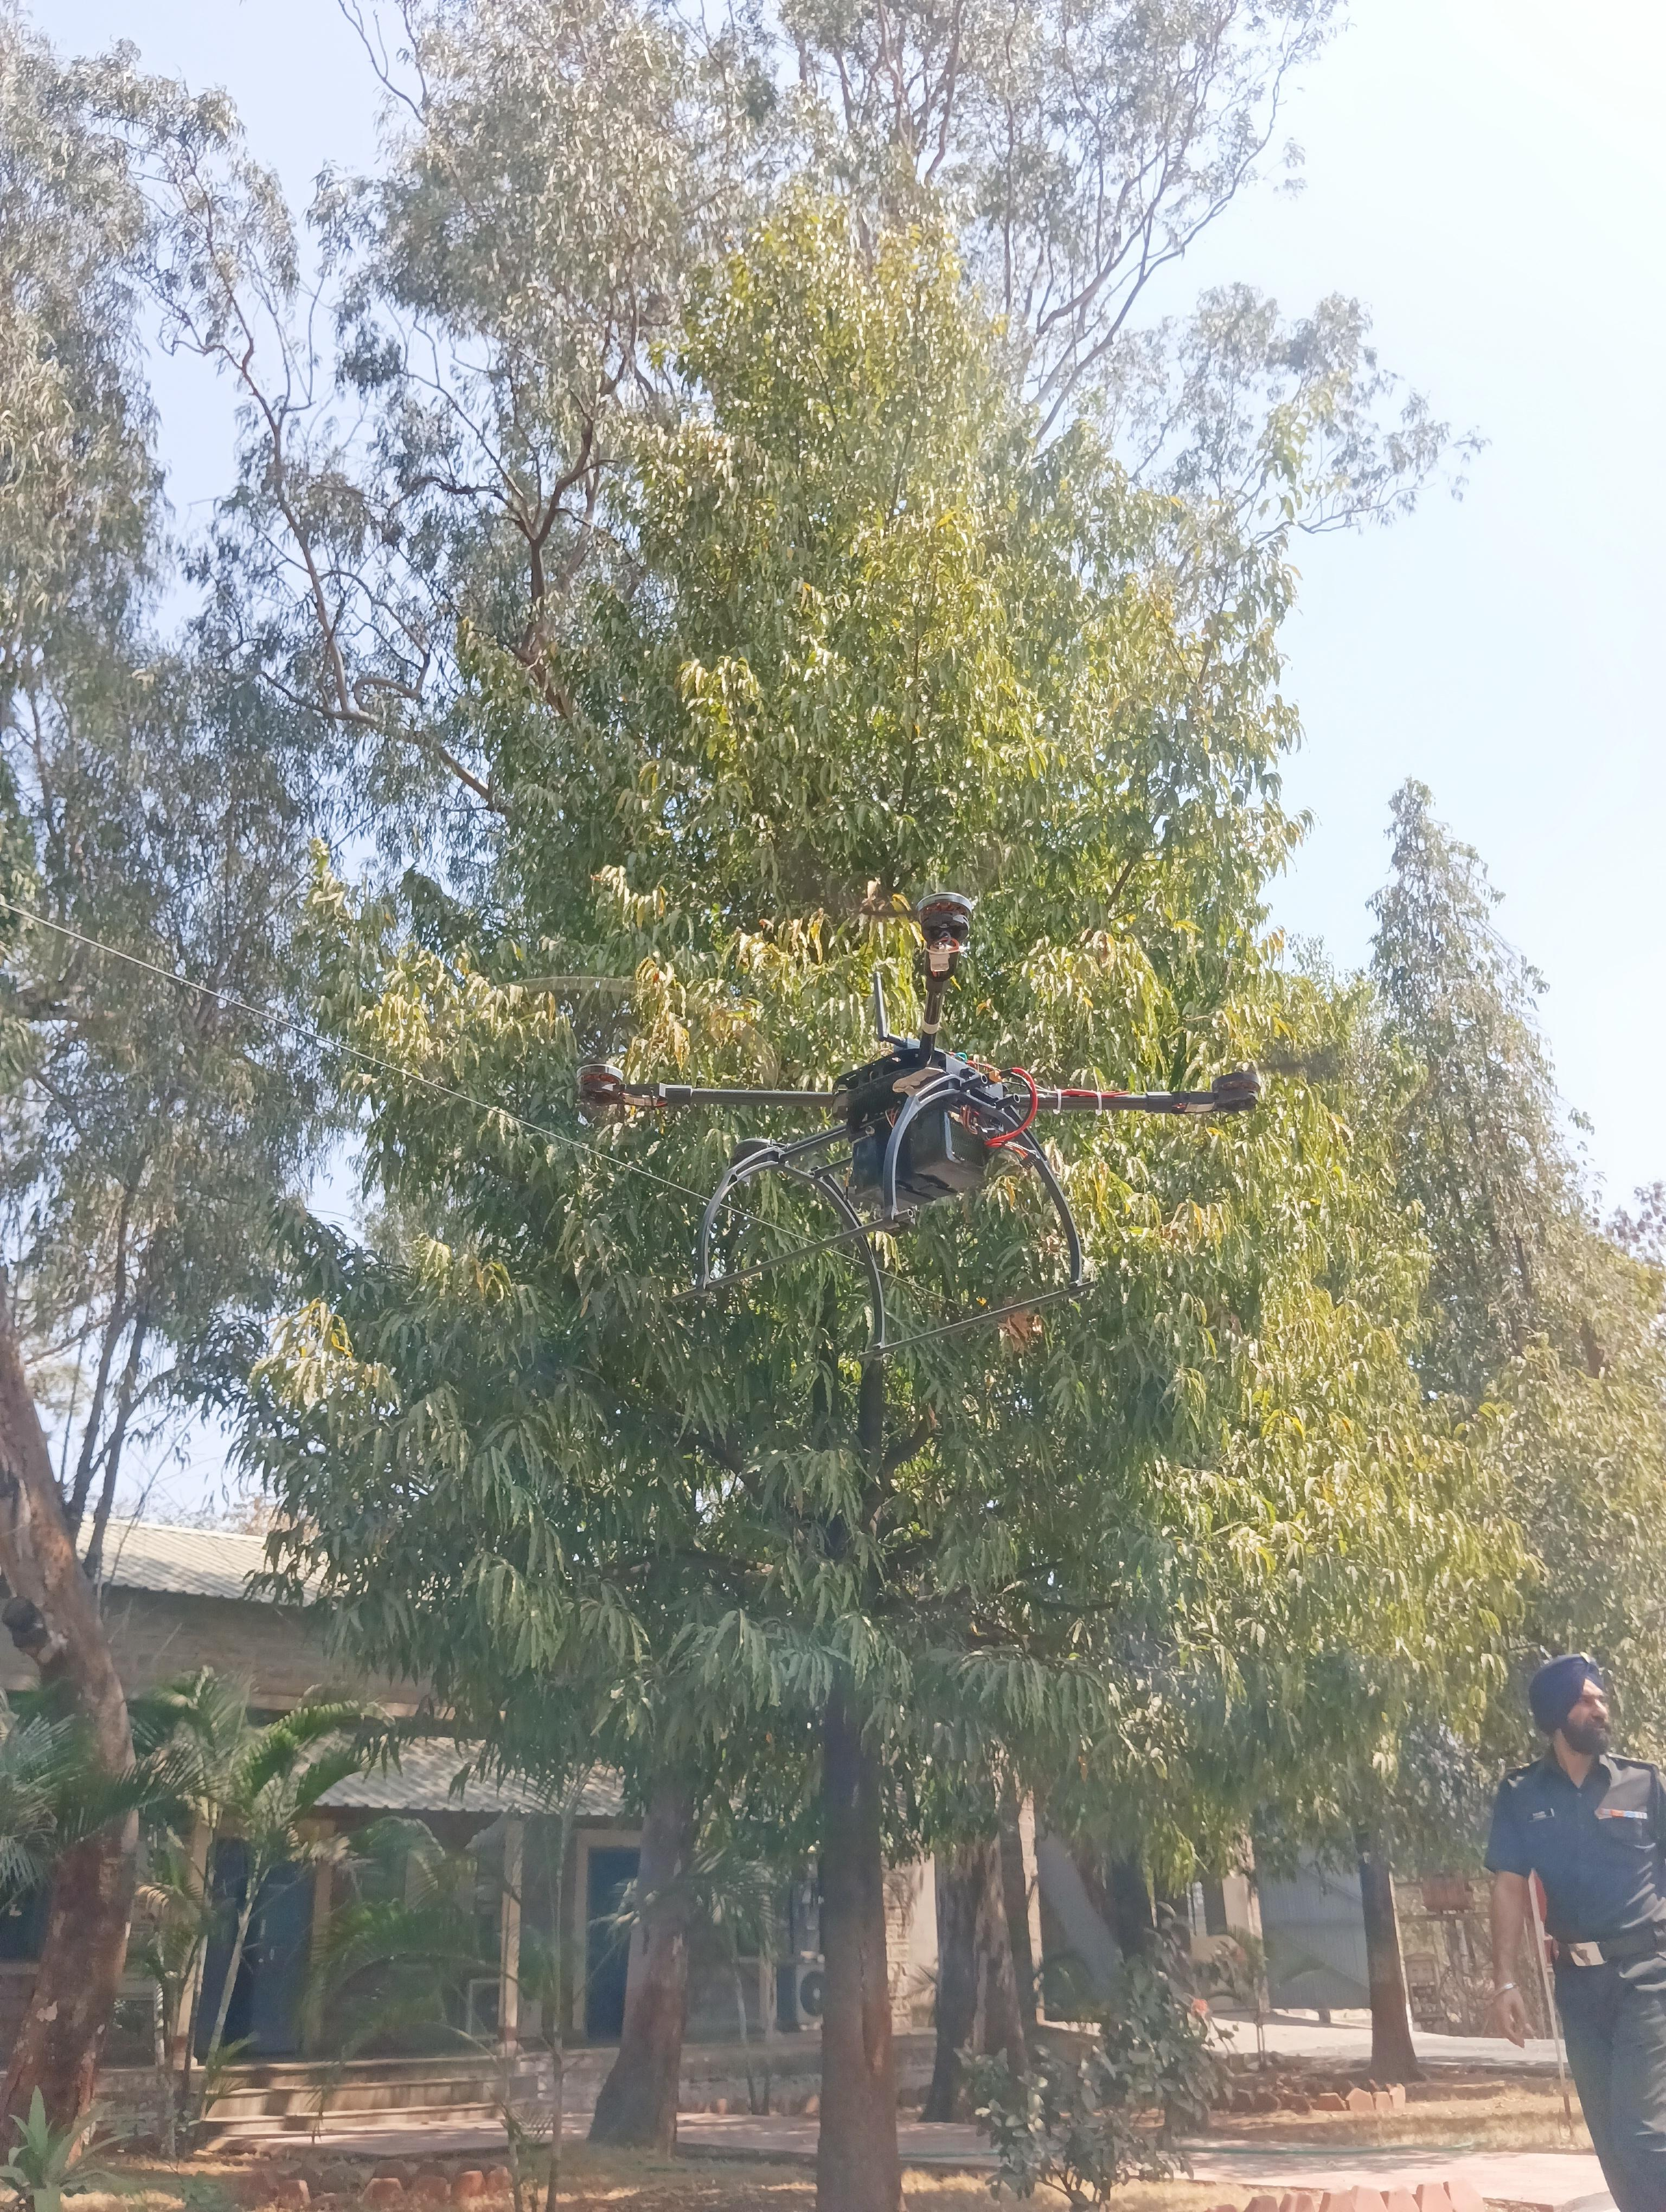drone: (462, 857, 1407, 1404)
